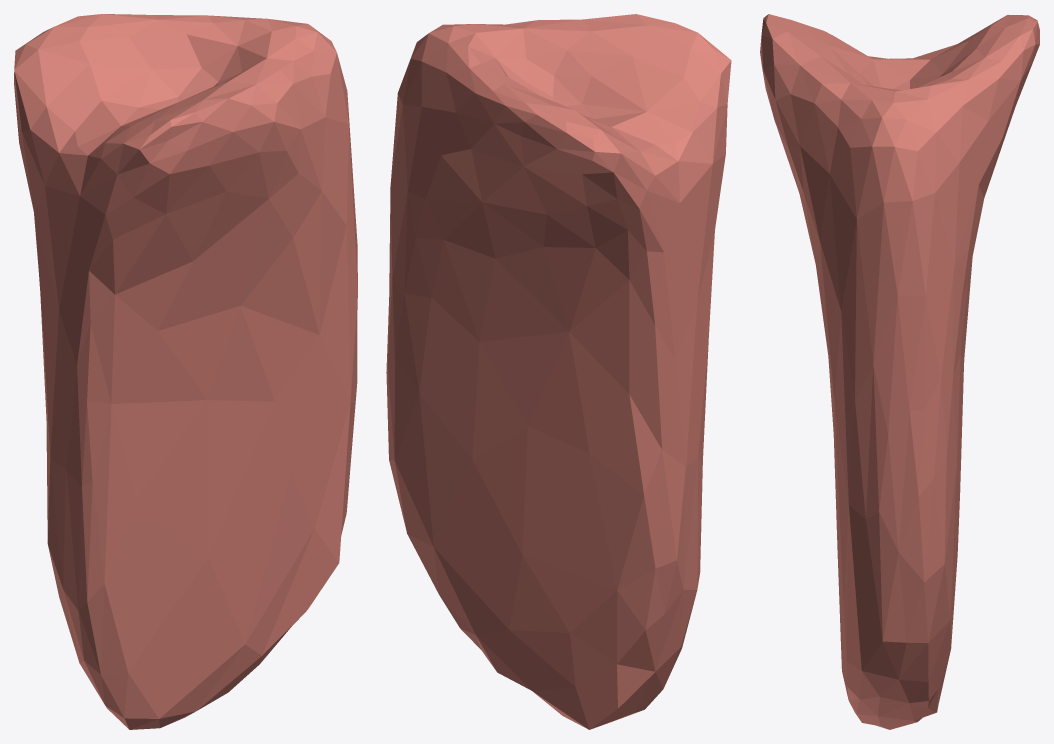
3 renders of one model, left to right at view 1: azimuth 30°, elevation 25°; view 2: azimuth 150°, elevation 25°; view 3: azimuth 270°, elevation 25°, orthographic. The views are drawn at different scales.
Visible parts, largest first — view 1: 133.obj; view 2: 133.obj; view 3: 133.obj.
Part boxes in pixels (bbox=[...]): 133.obj: bbox=[14, 14, 357, 729]; 133.obj: bbox=[386, 14, 731, 729]; 133.obj: bbox=[760, 14, 1039, 729].
Size of the model in its own units: 582 by 1234 by 456.
